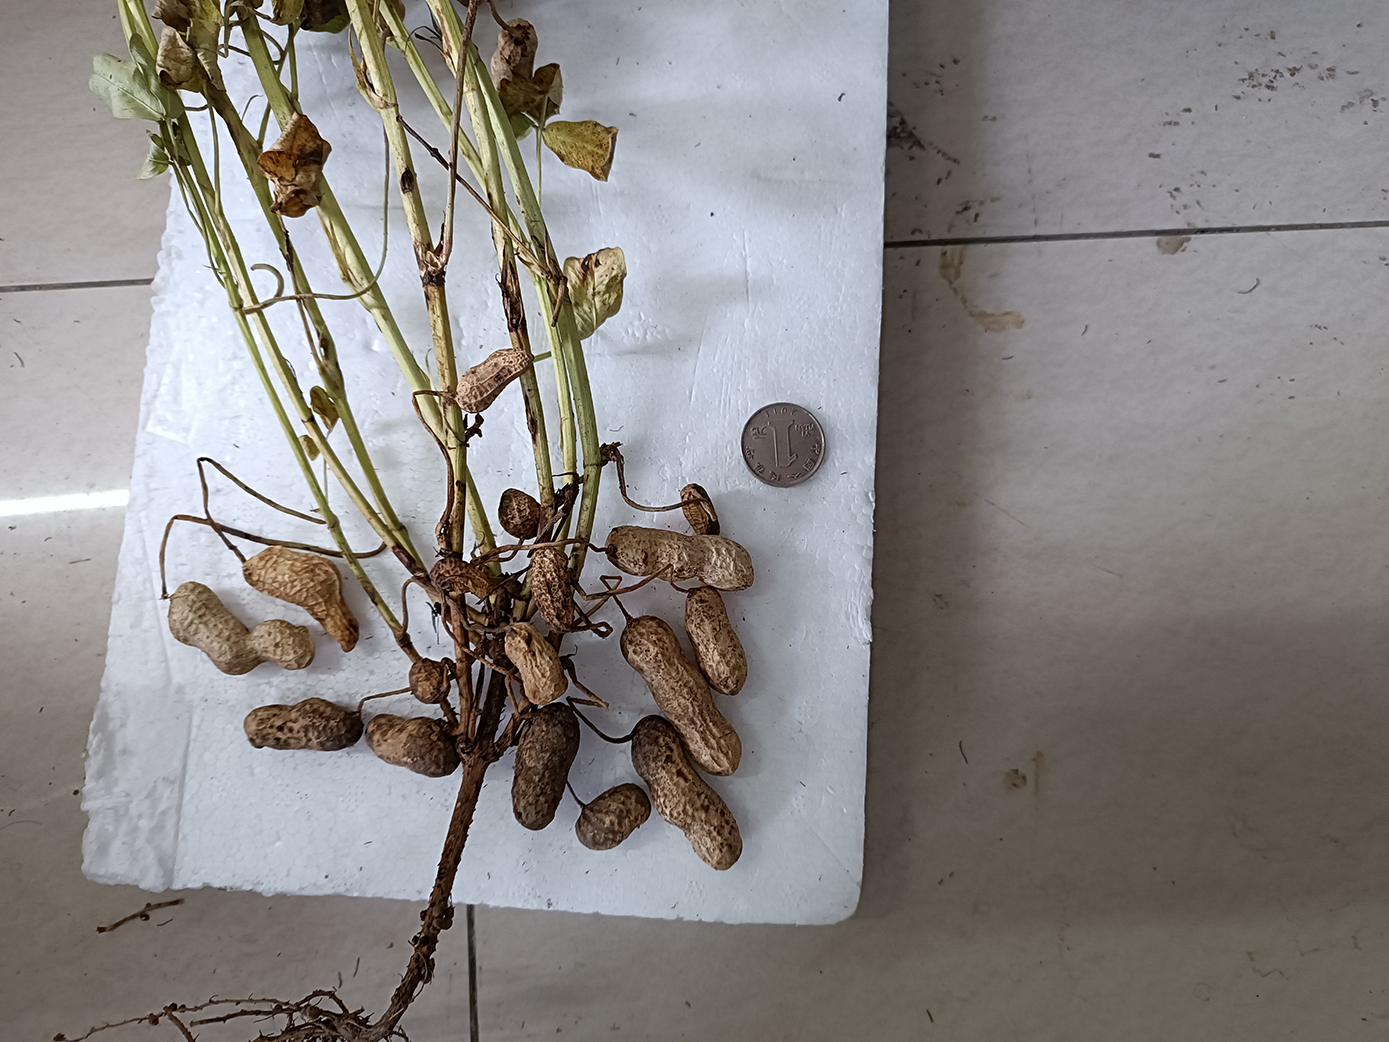h: (621, 616, 742, 776), (630, 715, 744, 871), (244, 545, 362, 655), (166, 584, 314, 671), (607, 526, 754, 592), (684, 587, 746, 697), (243, 699, 364, 751), (502, 623, 568, 704), (455, 349, 534, 412), (489, 19, 536, 121), (529, 547, 575, 630), (496, 487, 554, 539), (433, 559, 502, 601), (680, 483, 720, 540), (409, 659, 451, 702)
l: (510, 704, 579, 830), (576, 784, 652, 850)
